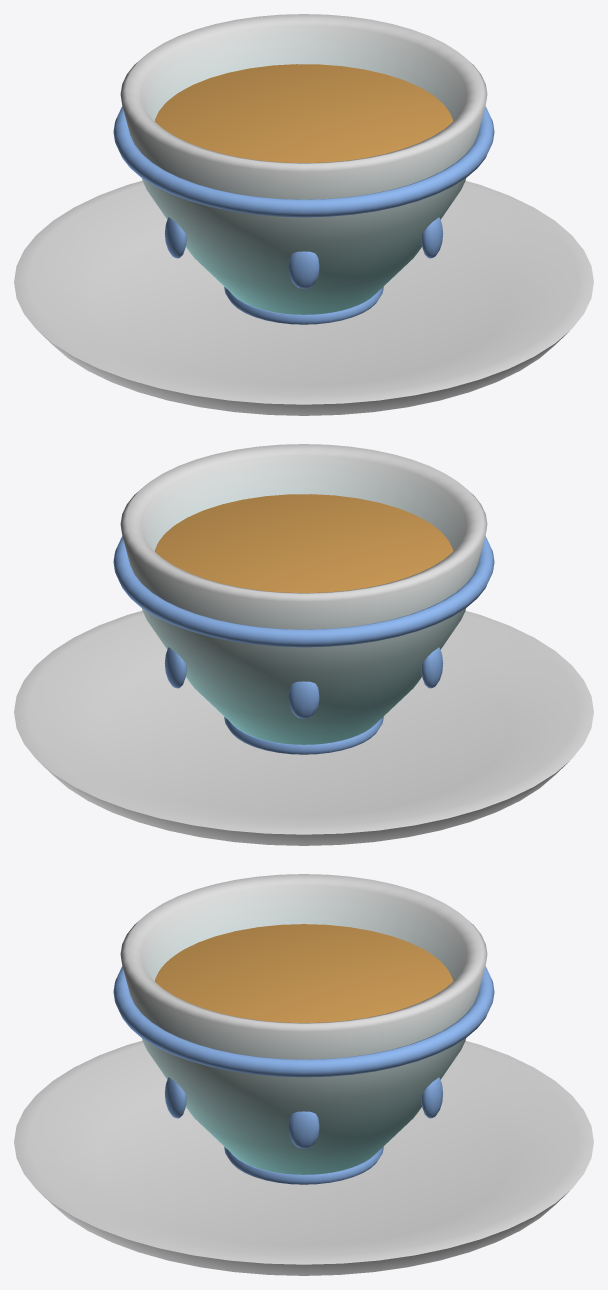
The model's file is ENV_Dimsum_Teacup.fbx.
3 renders of one model, top to bottom at view 1: azimuth 30°, elevation 25°; view 2: azimuth 150°, elevation 25°; view 3: azimuth 270°, elevation 25°, orthographic.
Parts seen in each view (by area): view 1: ENV_Dimsum_Teacup; view 2: ENV_Dimsum_Teacup; view 3: ENV_Dimsum_Teacup.
Part boxes in pixels (x1,y1,x2,y2): ENV_Dimsum_Teacup: (14, 14, 593, 415); ENV_Dimsum_Teacup: (14, 444, 593, 845); ENV_Dimsum_Teacup: (14, 874, 593, 1275).
Size of the model in its own units: 1.96 by 0.86 by 1.96.
